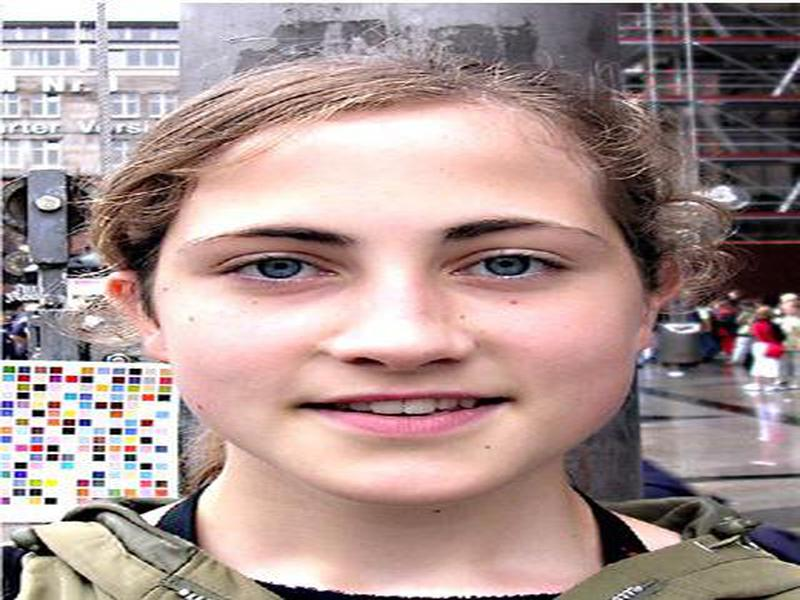without_mask: (157, 168, 644, 501)
